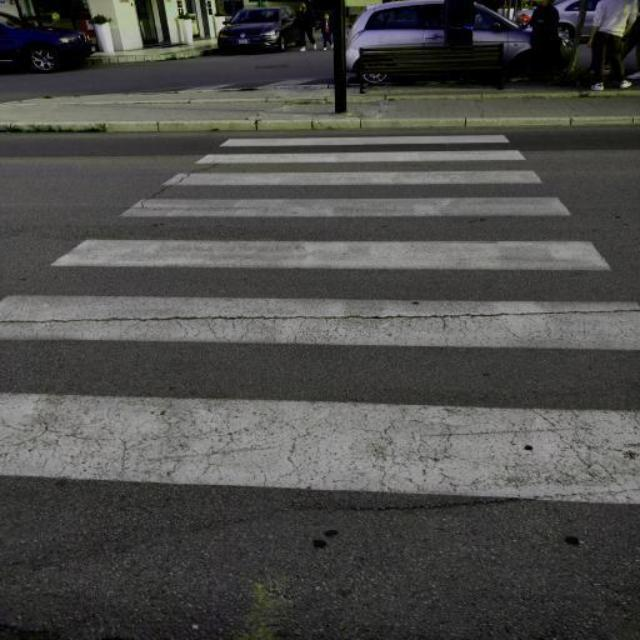sidewalk: (0, 129, 640, 639)
